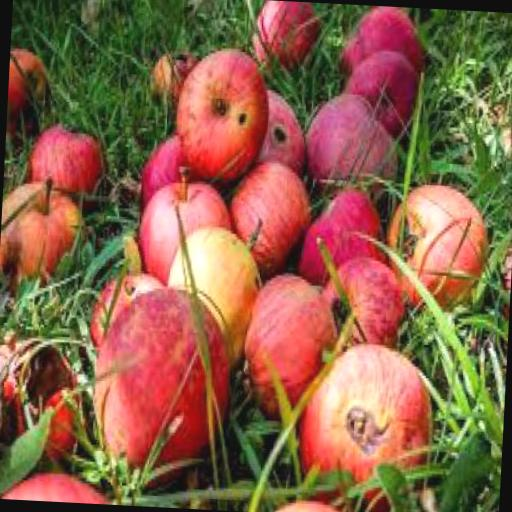biodegradable: (92, 283, 238, 497), (297, 339, 436, 512), (165, 211, 267, 376), (384, 175, 494, 312), (243, 269, 342, 421), (0, 328, 92, 487), (178, 44, 273, 182), (138, 159, 236, 282), (0, 172, 92, 294), (230, 153, 316, 269), (319, 252, 412, 358), (298, 187, 390, 292), (308, 90, 402, 192), (342, 4, 430, 88), (90, 263, 168, 353), (342, 46, 423, 129), (31, 118, 106, 188), (254, 84, 312, 170), (6, 45, 54, 140), (0, 464, 117, 502), (256, 0, 324, 65), (140, 128, 193, 207), (153, 45, 201, 106), (275, 494, 362, 512)
